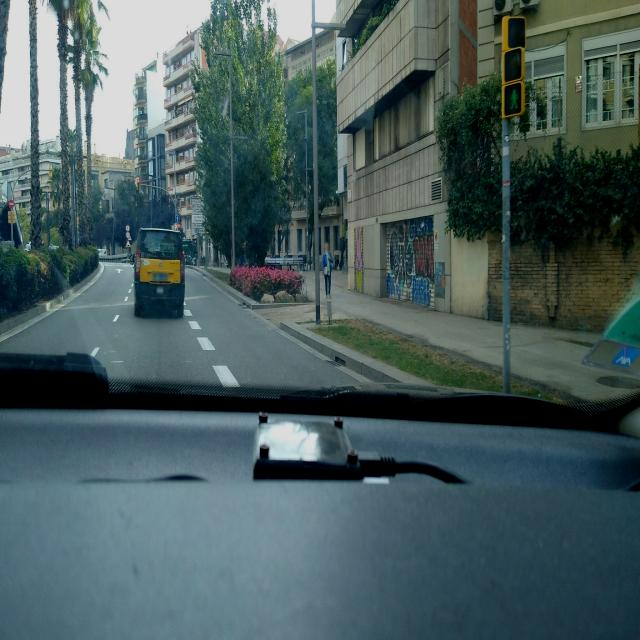car: (134, 226, 186, 317)
